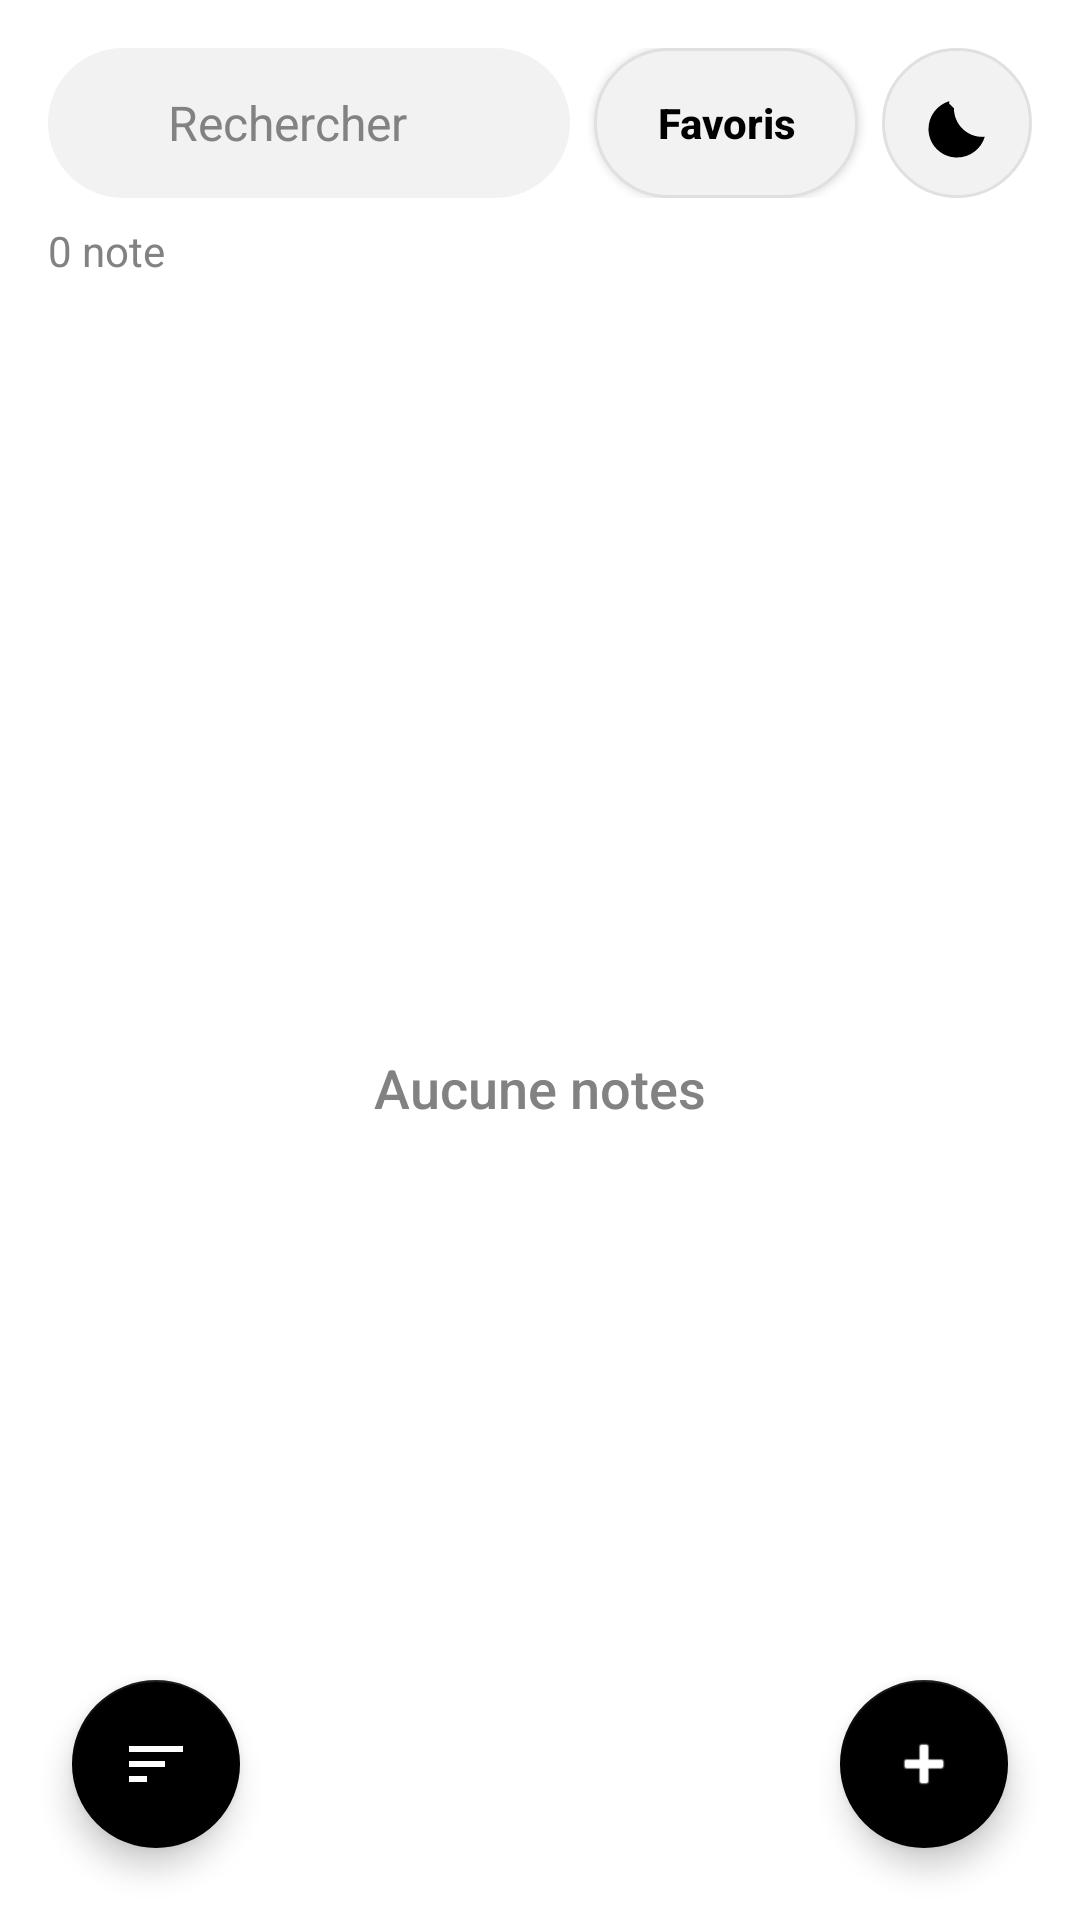

Where to tap for icons on this 1080 x 1920 app screen, as (x=x, y=y):
add: (x=924, y=1764)
Mode sombre: (x=957, y=123)
Trier: (x=156, y=1764)
